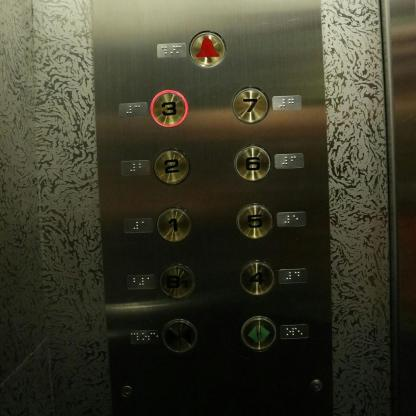1: (154, 204, 194, 244)
2: (151, 146, 191, 188)
3: (149, 88, 189, 128)
4: (238, 258, 276, 297)
5: (235, 201, 274, 240)
6: (232, 142, 272, 182)
7: (230, 85, 270, 125)
B1: (157, 261, 197, 301)
alarm: (187, 28, 228, 69)
close: (161, 317, 198, 354)
open: (240, 314, 277, 352)
